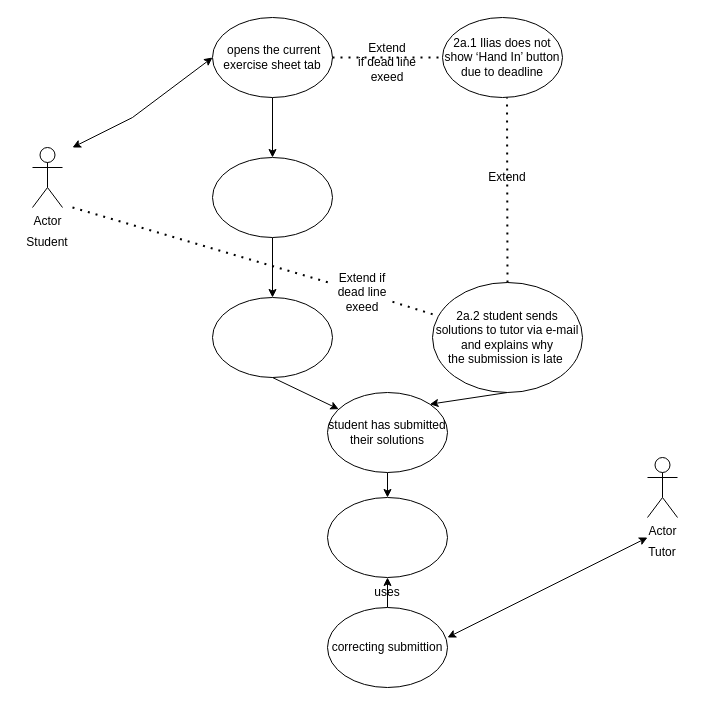
Image size: 709x705. Some labels were removed from this diagram. Here are the shapes that lost their labels. From the top down, the centre of each, then its label:
At point (272, 197): "Ilias shows ‘Hand In’ button".
At point (272, 337): "student clicks ‘Hand In’ button".
At point (387, 537): "exercise sheet solution uploaded".
